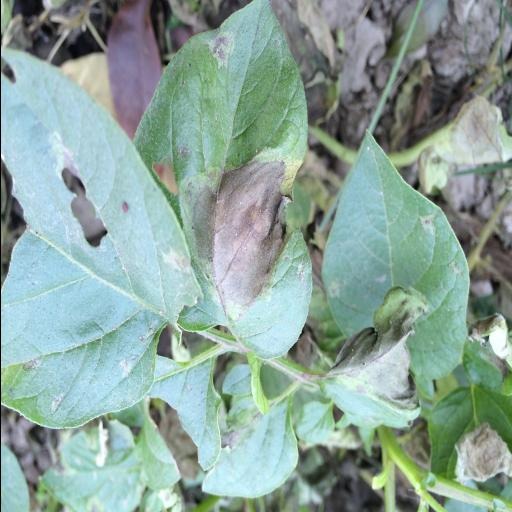Late Blight: (126, 2, 316, 376)
